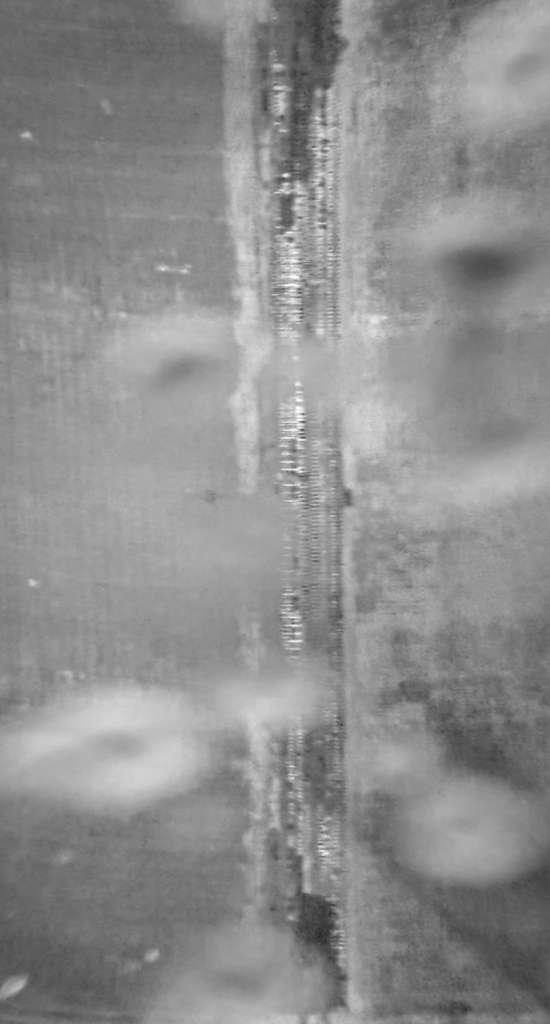splice: (244, 1, 349, 1024)
